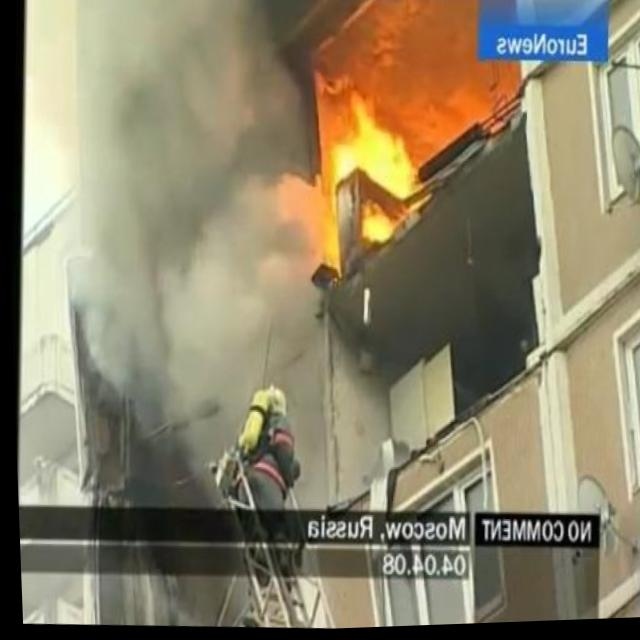fire: (316, 89, 433, 248)
